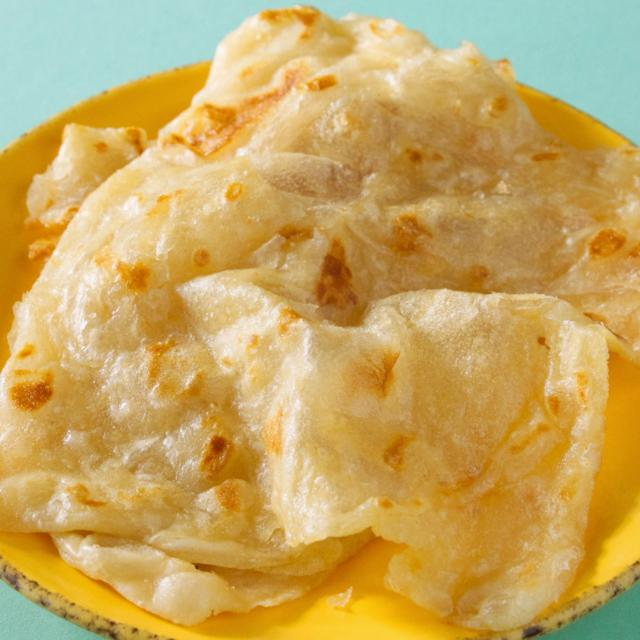Paratha: (36, 21, 594, 602)
